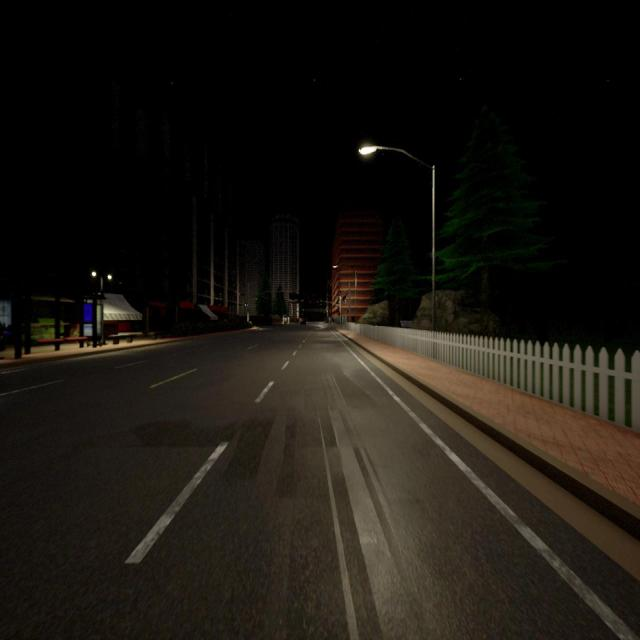Vehicle: (301, 320, 306, 326)
